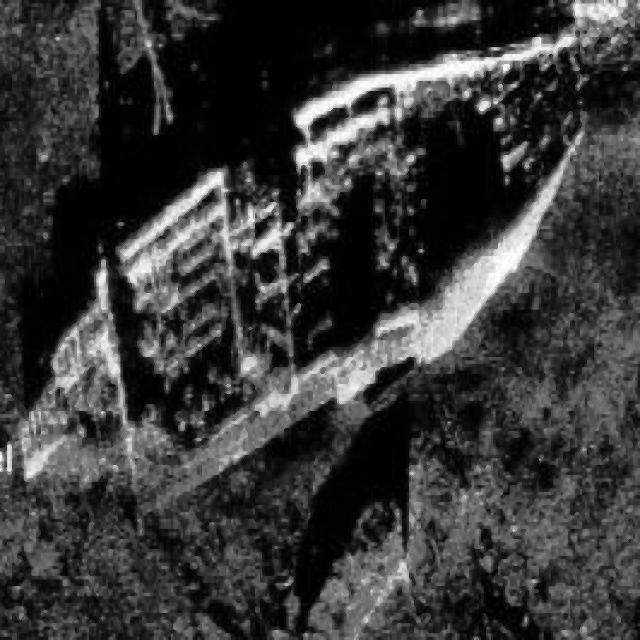Ship: (0, 0, 640, 509)
